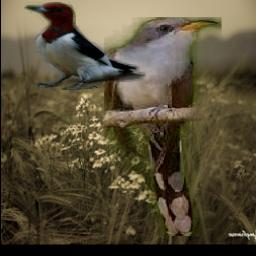Cuckoo: (104, 18, 222, 237)
Woodpecker: (24, 2, 146, 90)
